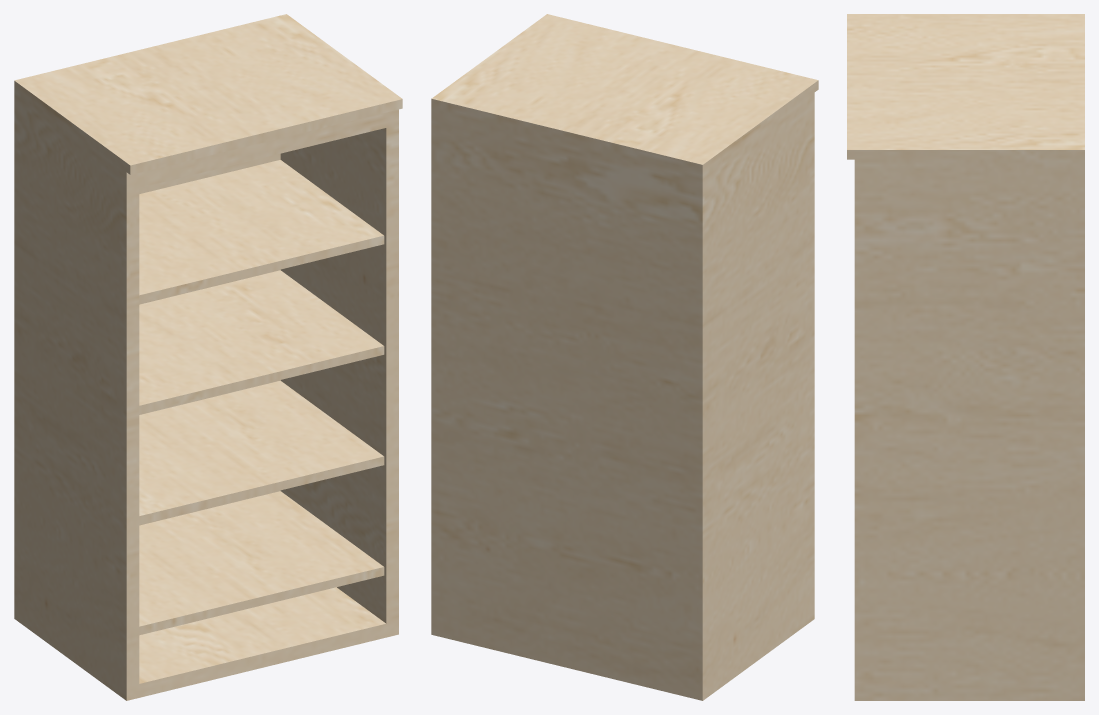
File: Closet31.fbx
3 renders of one model, left to right at view 1: azimuth 30°, elevation 25°; view 2: azimuth 150°, elevation 25°; view 3: azimuth 270°, elevation 25°, orthographic. The views are drawn at different scales.
Visible parts, largest first — view 1: Closet31; view 2: Closet31; view 3: Closet31.
Part boxes in pixels (x1,y1,x2,y2): Closet31: [14, 14, 402, 700]; Closet31: [431, 14, 818, 700]; Closet31: [847, 14, 1084, 700].
Size of the model in its own units: 62.2 by 117 by 45.95.
